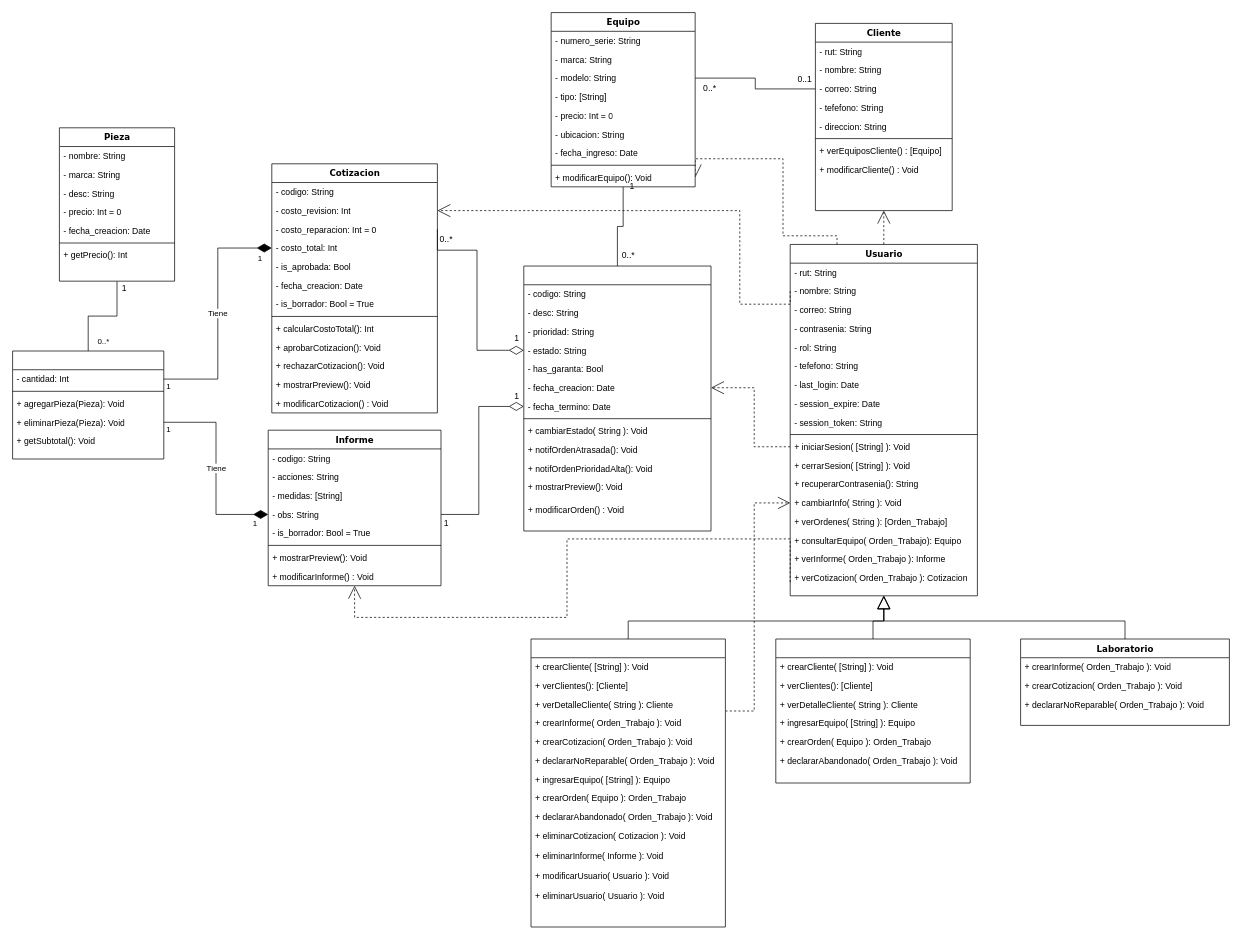
This 1242x940 diagram has some shape labels left out. The shapes that lost their labels are listed below. From the top down, each one's box as (x1, y1, x2, y2) in pixels, then its label:
(12, 350, 164, 459): Listado Piezas
(523, 265, 711, 531): Orden Trabajo
(775, 638, 970, 783): Recepcion
(530, 638, 725, 927): Admin
